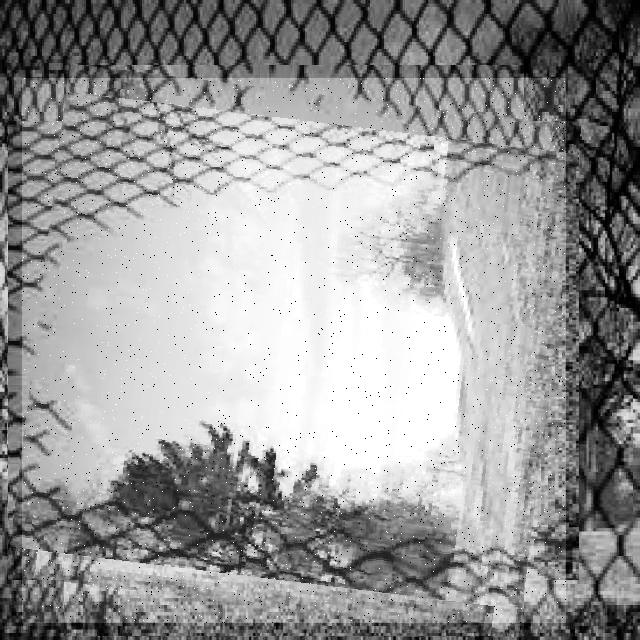anomaly-fence: (22, 78, 566, 623)
